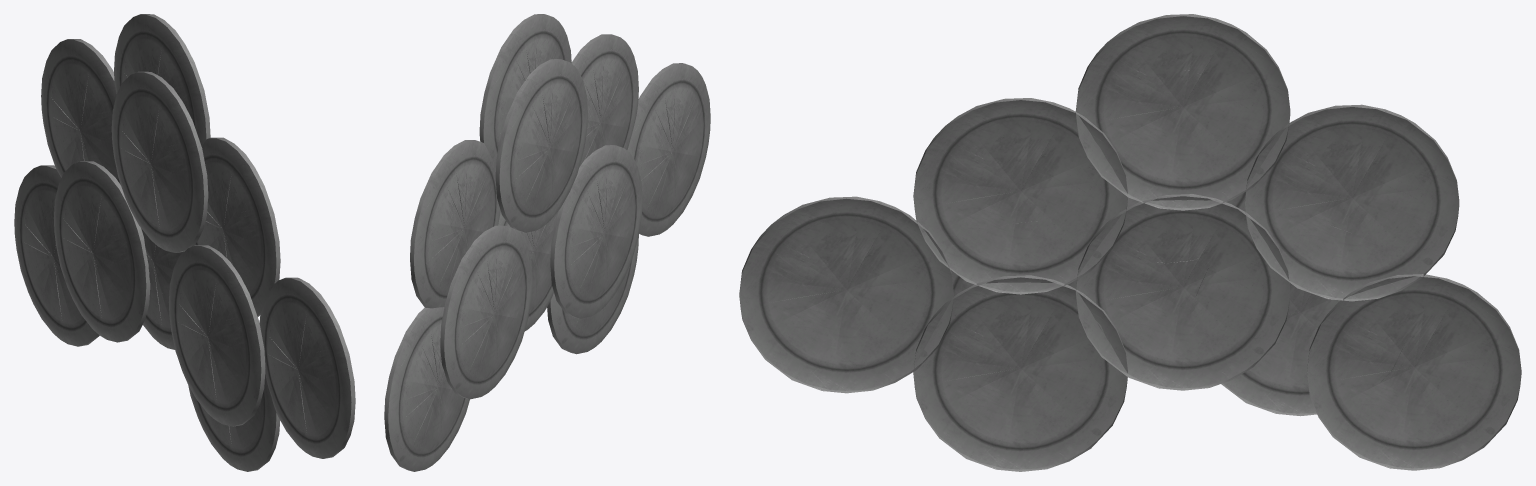
The model's file is stage_cloud.fbx.
The picture shows the model from 3 angles, left to right: view 1: azimuth 30°, elevation 25°; view 2: azimuth 150°, elevation 25°; view 3: azimuth 270°, elevation 25°; orthographic projection. The views are drawn at different scales.
Parts seen in each view (by area): view 1: stage_cloud; view 2: stage_cloud; view 3: stage_cloud.
Boxes of the visible parts, x1,y1,x2,y2 form: stage_cloud: (14,14,355,471); stage_cloud: (384,14,710,471); stage_cloud: (739,14,1521,471).
Bounding box in the file's own units: 5.06 × 92.77 × 144.
